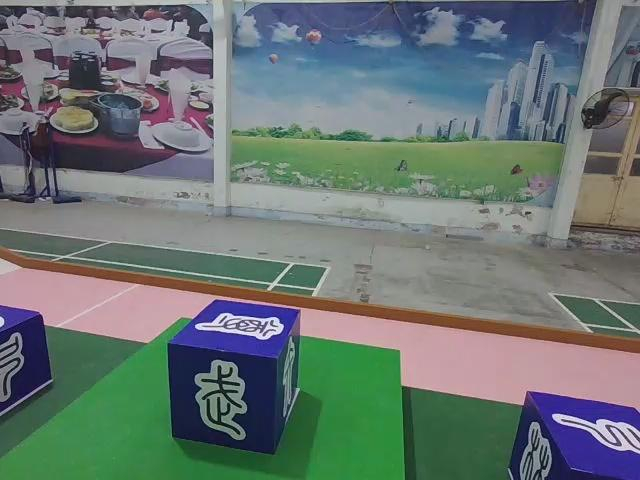R2 Fake Blue: (167, 300, 301, 455), (507, 391, 640, 479), (0, 302, 52, 425)
